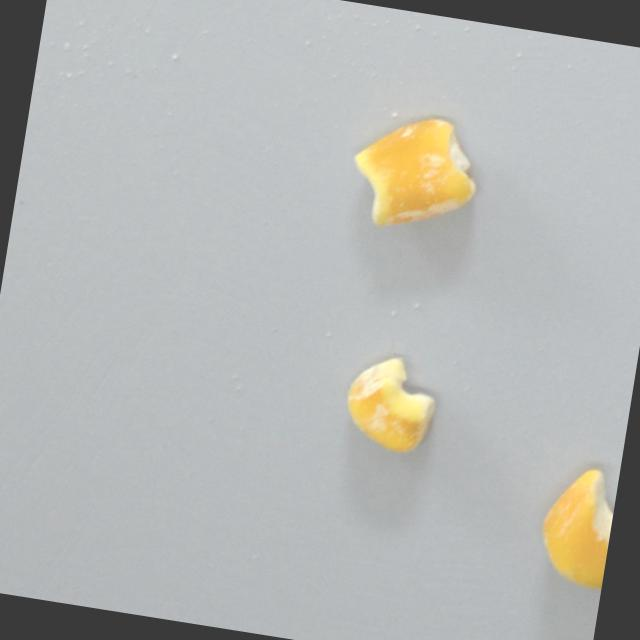dañado: (340, 101, 491, 244), (331, 344, 448, 462), (530, 456, 621, 593)
